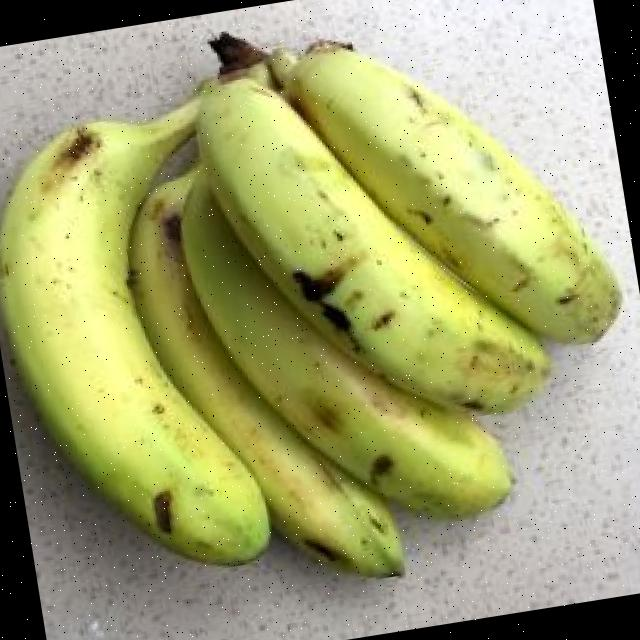banana: (0, 101, 270, 562), (198, 77, 549, 412), (182, 173, 509, 515), (129, 172, 400, 574), (285, 45, 622, 343)
